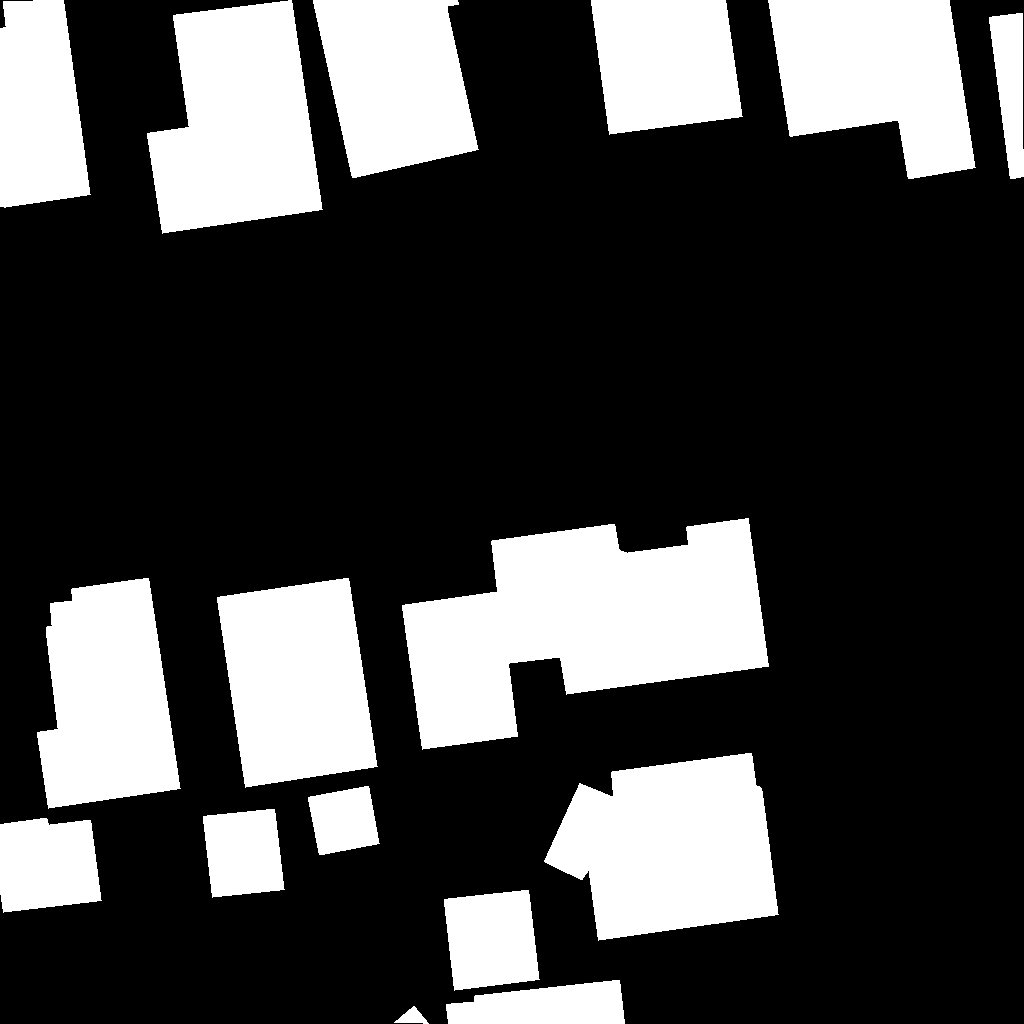building: (402, 518, 770, 750), (544, 753, 779, 941), (147, 0, 323, 234), (768, 0, 976, 180), (217, 578, 378, 788), (37, 578, 181, 809), (313, 0, 479, 179), (591, 0, 743, 135), (0, 0, 91, 208), (444, 890, 540, 991), (0, 818, 102, 913), (446, 980, 626, 1024), (203, 809, 285, 898), (989, 13, 1024, 180), (308, 786, 380, 856), (394, 1006, 430, 1024)
